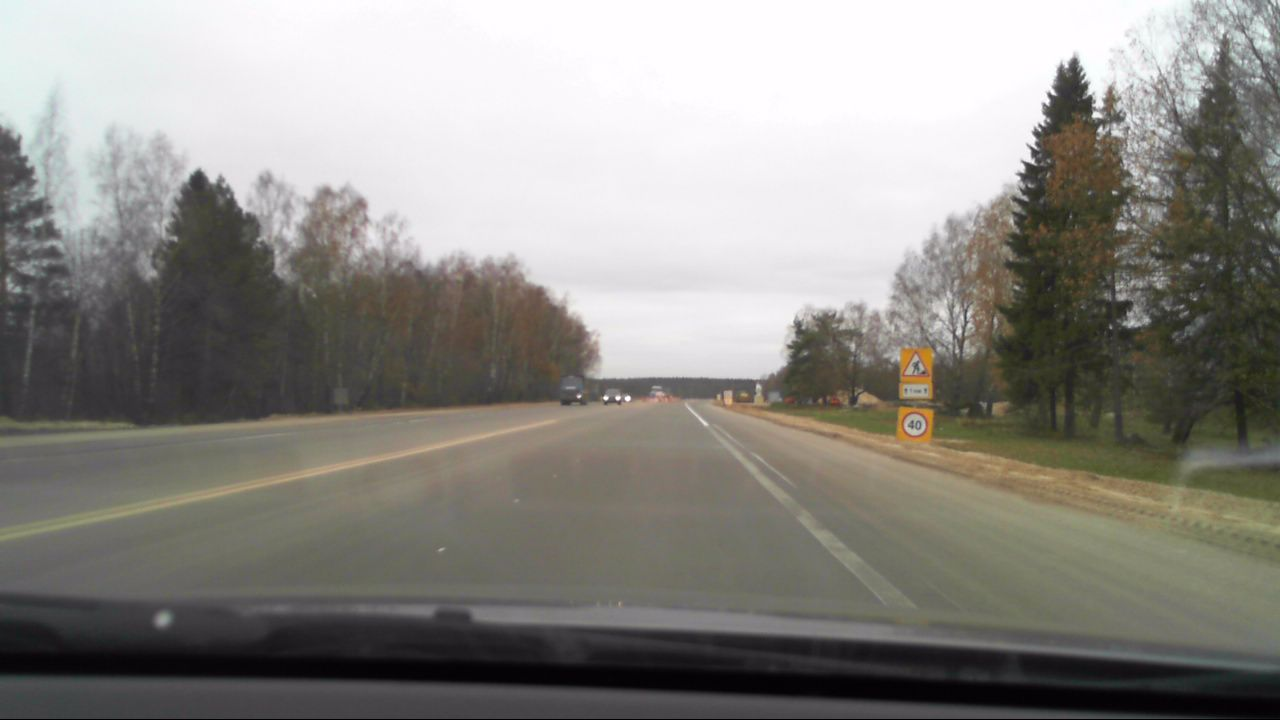speed_warning_40: (899, 407, 932, 444)
